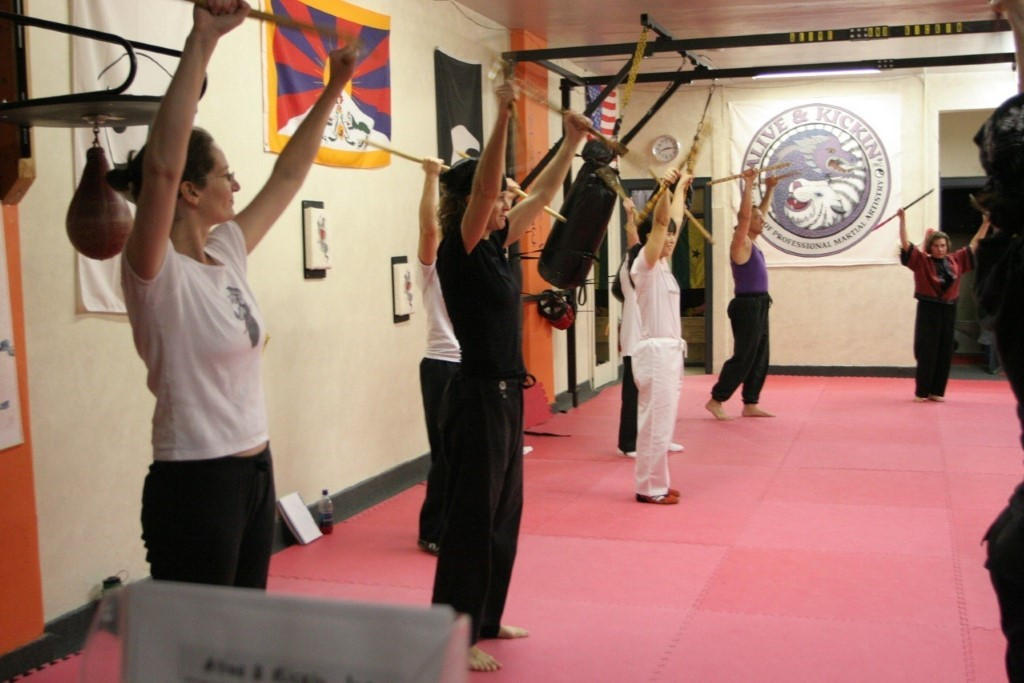baston_e: (458, 149, 562, 221), (195, 3, 351, 45), (638, 132, 699, 224), (646, 170, 711, 237), (607, 35, 648, 139), (874, 187, 932, 231), (366, 138, 441, 170), (709, 161, 787, 185)
baston_v: (361, 136, 369, 145), (560, 216, 569, 224), (703, 180, 713, 186), (454, 147, 461, 155), (930, 186, 936, 193), (785, 161, 791, 167), (868, 227, 875, 232)
